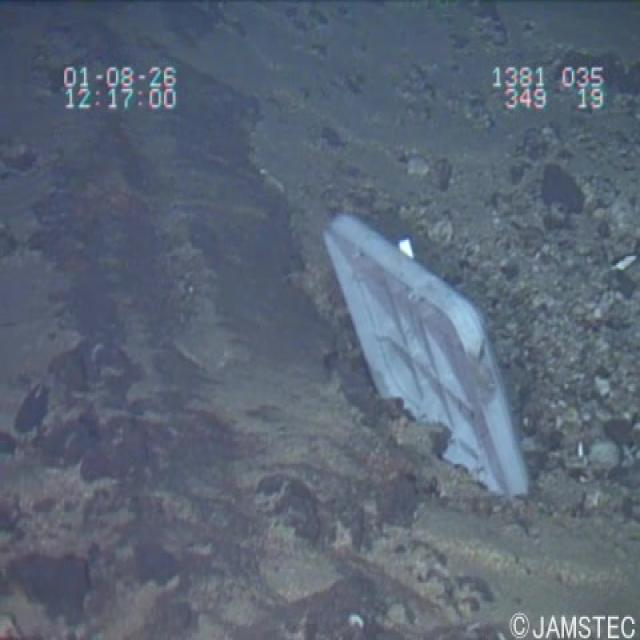plastic: (305, 198, 555, 542)
